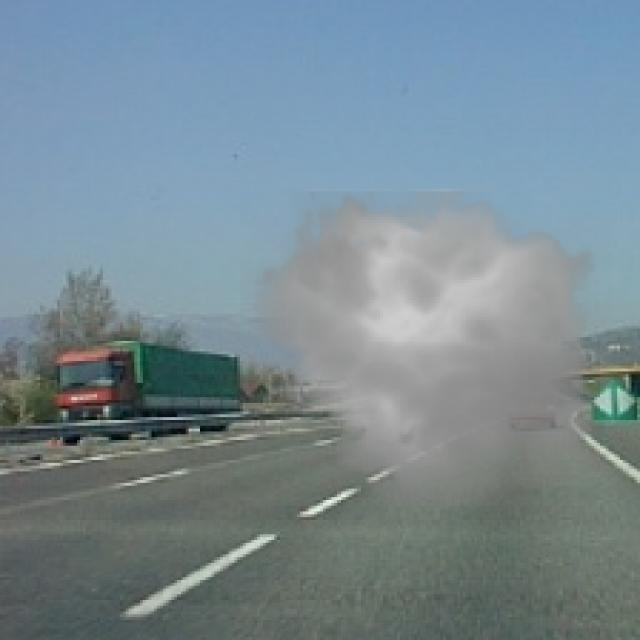Smoke: (239, 175, 612, 520)
